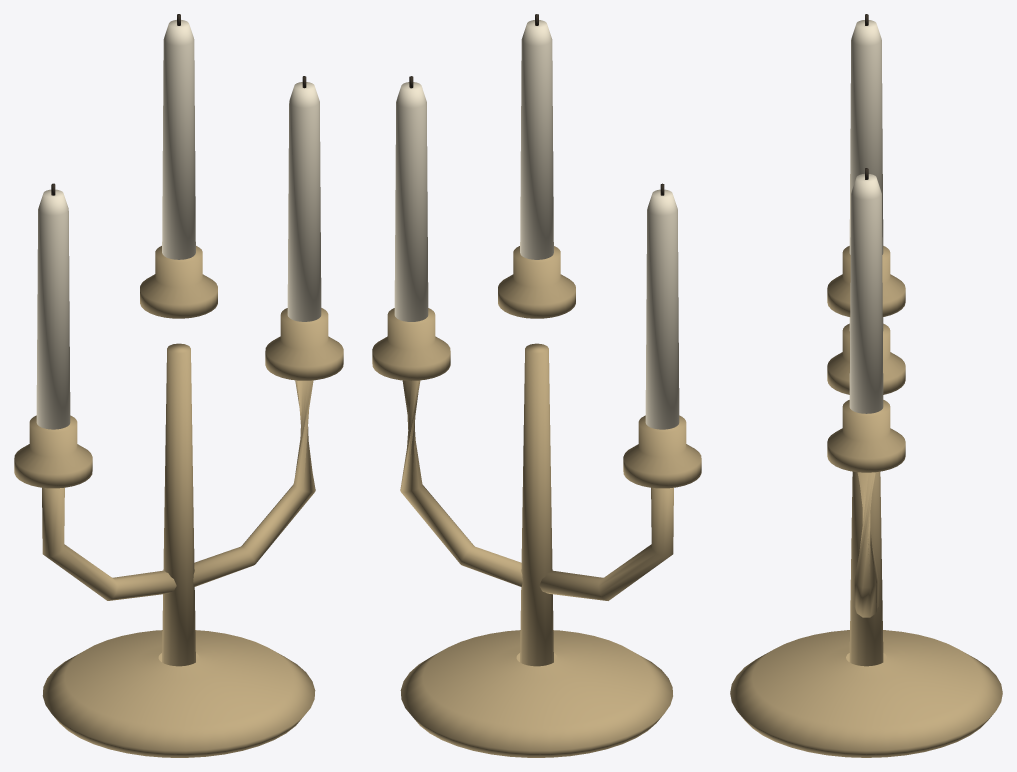
Rendered from candle_holder.glb.
3 renders of one model, left to right at view 1: azimuth 30°, elevation 25°; view 2: azimuth 150°, elevation 25°; view 3: azimuth 270°, elevation 25°, orthographic.
Visible parts, largest first — view 1: candle_holder__body, candle_holder__wax; view 2: candle_holder__body, candle_holder__wax; view 3: candle_holder__body, candle_holder__wax.
Part boxes in pixels (box(x1,y1,x2,y2)): candle_holder__body: box(14, 246, 343, 757); candle_holder__wax: box(36, 20, 321, 429); candle_holder__body: box(372, 246, 701, 757); candle_holder__wax: box(394, 20, 679, 429); candle_holder__body: box(730, 246, 1002, 757); candle_holder__wax: box(849, 20, 883, 413).
Size of the model in its own units: 0.216 by 0.446 by 0.16.
